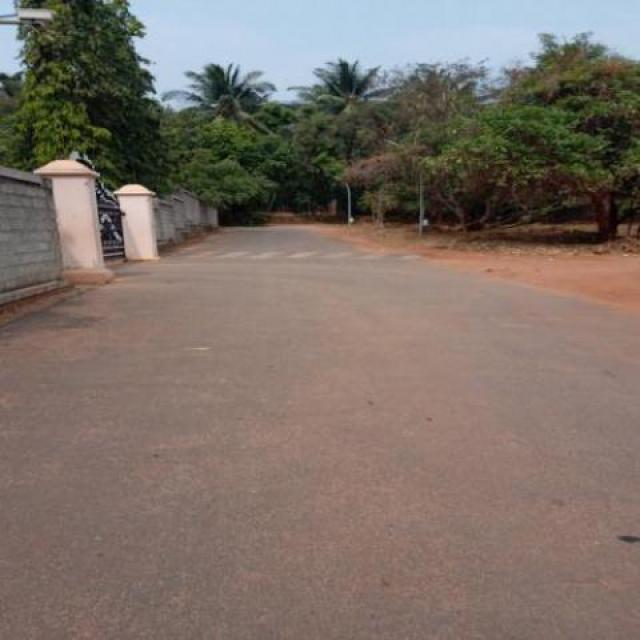Speed Bump: (164, 246, 432, 262)
